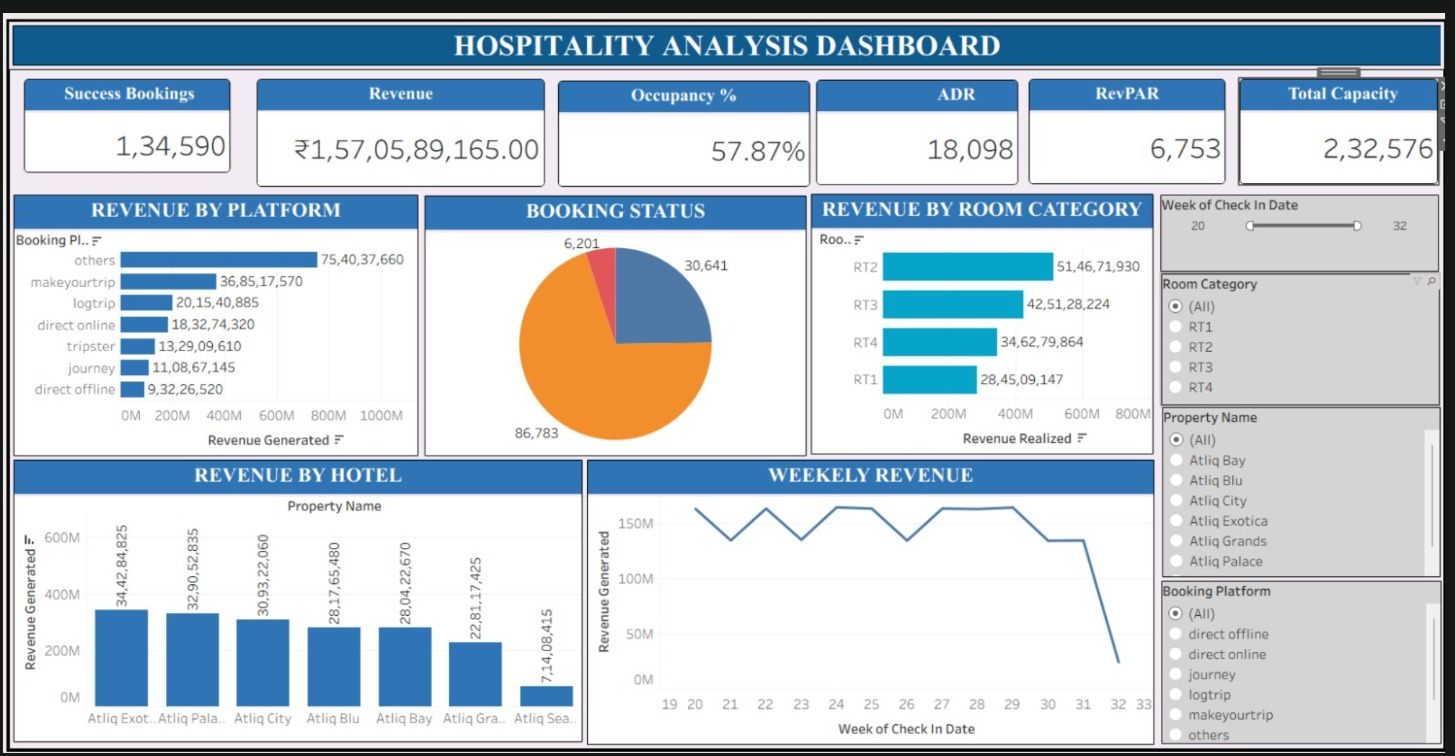

The dashboard page shown, as its layout file describes it:
{"tool":"tableau","page":{"name":"Hospitality Analysis Dashboard","canvas":[1000,1000],"units":"permille","ordinal":0},"visuals":[{"type":"title","box":[6.6,12.9,986.7,63.5]},{"type":"worksheet","title":"KPI - Successful Bookings","mark":"Text","box":[16.9,89.3,141.8,125.7]},{"type":"worksheet","title":"KPI - Revenue","mark":"Text","box":[176.8,89.3,198,144.5]},{"type":"worksheet","title":"KPI - RevPAR","mark":"Text","box":[707.3,89.3,135.2,141]},{"type":"worksheet","title":"KPI - Total Capacity","mark":"Text","box":[852.1,89.3,136.4,141]},{"type":"worksheet","title":"KPI - ADR","mark":"Text","box":[561.3,90.5,138.8,141]},{"type":"worksheet","title":"KPI - Occupancy","mark":"Text","box":[383.8,91.7,173.2,142.2]},{"type":"worksheet","title":"Chart - Revenue by Room Category","mark":"Automatic","rows":["room_category"],"cols":["revenue_realized"],"box":[557.6,243.2,235.4,349]},{"type":"worksheet","title":"Chart - Revenue by Platform","mark":"Automatic","rows":["booking_platform"],"cols":["revenue_generated"],"box":[9.7,244.4,278.2,350.2]},{"type":"filter","title":"Chart - Weekly Revenue","param":"[federated.0kmztrh0hk2j3e14cz2530rvzswz].[wk:check_in_date:qk]","box":[797.8,244.4,191.3,103.4]},{"type":"worksheet","title":"Chart - Booking Status","mark":"Pie","box":[292.1,245.6,262.5,349]},{"type":"filter","title":"Chart - Revenue by Room Category","param":"[federated.0kmztrh0hk2j3e14cz2530rvzswz].[none:room_category:nk]","box":[798.4,350.2,191.3,176.3]},{"type":"filter","title":"Chart - Revenue by Hotel","param":"[federated.0kmztrh0hk2j3e14cz2530rvzswz].[none:property_name:nk]","box":[799,528.8,191.3,228]},{"type":"worksheet","title":"Chart - Revenue by Hotel","mark":"Bar","rows":["revenue_generated"],"cols":["property_name"],"box":[9.7,599.3,391.1,378.4]},{"type":"worksheet","title":"Chart - Weekly Revenue","mark":"Automatic","rows":["revenue_generated"],"cols":["check_in_date"],"box":[403.7,599.3,389.9,381.9]},{"type":"filter","title":"Chart - Revenue by Platform","param":"[federated.0kmztrh0hk2j3e14cz2530rvzswz].[none:booking_platform:nk]","box":[798.4,761.5,193.1,218.6]}]}

Visuals, with their boxes on the dashboard's canvas, which has no fixed pixel size, in thousandths of its width and height (x1, y1, x2, y2). These are canvas units, not pixel positions in the 1455x756 screenshot, which may show the page scaled, cropped or inside an application window:
title: (left=7, top=13, right=993, bottom=76)
"KPI - Successful Bookings" worksheet (Text marks): (left=17, top=89, right=159, bottom=215)
"KPI - Revenue" worksheet (Text marks): (left=177, top=89, right=375, bottom=234)
"KPI - RevPAR" worksheet (Text marks): (left=707, top=89, right=842, bottom=230)
"KPI - Total Capacity" worksheet (Text marks): (left=852, top=89, right=988, bottom=230)
"KPI - ADR" worksheet (Text marks): (left=561, top=90, right=700, bottom=232)
"KPI - Occupancy" worksheet (Text marks): (left=384, top=92, right=557, bottom=234)
"Chart - Revenue by Room Category" worksheet: (left=558, top=243, right=793, bottom=592)
"Chart - Revenue by Platform" worksheet: (left=10, top=244, right=288, bottom=595)
"Chart - Weekly Revenue" filter: (left=798, top=244, right=989, bottom=348)
"Chart - Booking Status" worksheet (Pie marks): (left=292, top=246, right=555, bottom=595)
"Chart - Revenue by Room Category" filter: (left=798, top=350, right=990, bottom=526)
"Chart - Revenue by Hotel" filter: (left=799, top=529, right=990, bottom=757)
"Chart - Revenue by Hotel" worksheet (Bar marks): (left=10, top=599, right=401, bottom=978)
"Chart - Weekly Revenue" worksheet: (left=404, top=599, right=794, bottom=981)
"Chart - Revenue by Platform" filter: (left=798, top=762, right=992, bottom=980)
